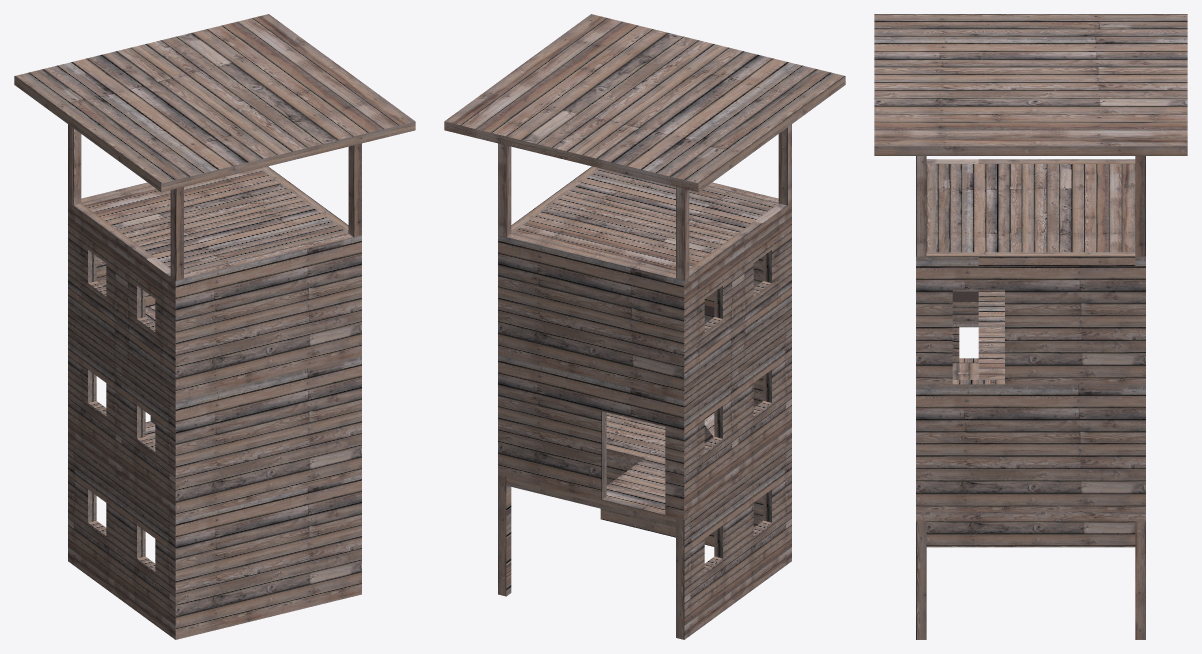
The model's file is 4 Story Lincoln Log Watch Tower.glb.
3 renders of one model, left to right at view 1: azimuth 30°, elevation 25°; view 2: azimuth 150°, elevation 25°; view 3: azimuth 270°, elevation 25°, orthographic. The views are drawn at different scales.
Visible parts, largest first — view 1: Tower; view 2: Tower; view 3: Tower.
Part boxes in pixels (<box>): Tower: <box>14,14,415,639</box>; Tower: <box>444,14,845,639</box>; Tower: <box>874,14,1187,639</box>.
Size of the model in its own units: 6 by 10.8 by 6.
Materials: 1 (1 with a texture image).
